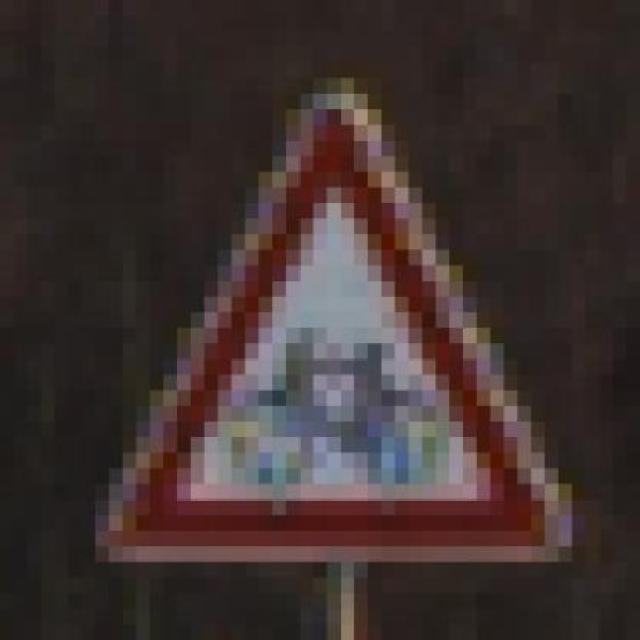CYCLE ROUTE AHEAD WARNING: (82, 62, 572, 578)
